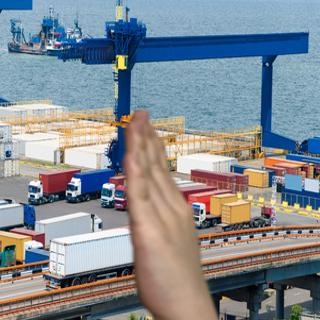RIGHT: (119, 103, 220, 318)
